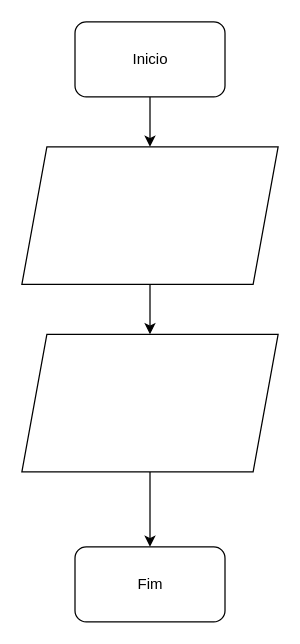
Image size: 300x644. Some labels were removed from this diagram. Each missing label, with the centre of its shape:
Escreva("Olá, ", nome_Usuario, ". Seja bem-vindo!"): pixel 149 402
Leia(nome_Usuario): pixel 149 215
